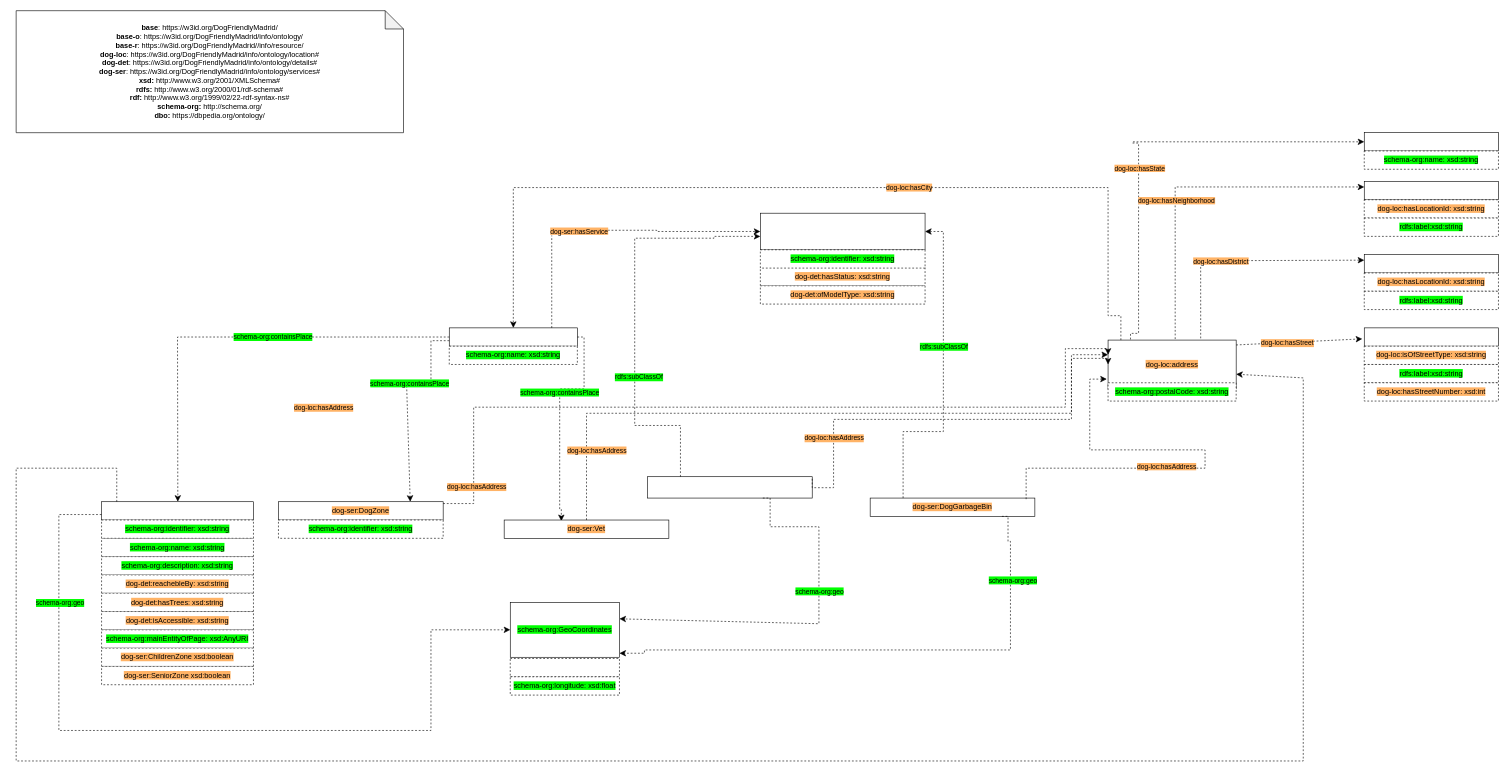
Image size: 1509x778. Some labels were removed from this diagram. Each missing label, with the box of its shape:
dbo:Street: (1364, 327, 1498, 346)
doc-ser:Services: (760, 213, 925, 250)
dog-loc:District: (1364, 254, 1498, 273)
dog-loc:Neighborhood: (1364, 181, 1498, 200)
dog-ser:DrinkingFountain: (647, 476, 812, 498)
schema-org:City: (449, 327, 577, 346)
schema-org:latitude: xsd:float: (510, 658, 619, 677)
schema-org:Park: (101, 501, 253, 520)
schema-org:State: (1364, 132, 1498, 151)
